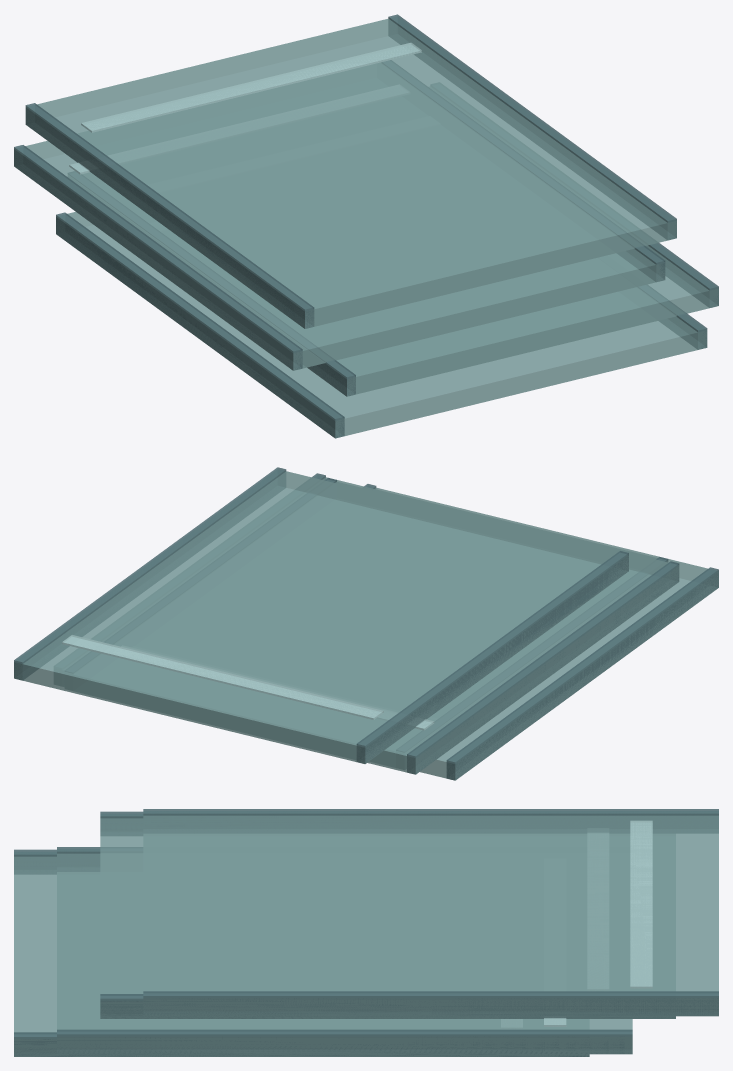
Rendered from CMU3DMaterialLeisureGlass50Cloud.glb.
3 views of the same model, one above another, from view 1: azimuth 30°, elevation 25°; view 2: azimuth 150°, elevation 25°; view 3: azimuth 270°, elevation 25° (orthographic). The views are drawn at different scales.
Visible parts, largest first — view 1: separate physical sheet 3, separate physical sheet 2, separate physical sheet 0, separate physical sheet 1, sheet edge 0, sheet edge 2, sheet edge 3, sheet edge 3 member 2, glass upper specular stripe 3, sheet edge 1, glass upper specular stripe 2, sheet edge 2 member 2 (+2 smaller); view 2: separate physical sheet 3, separate physical sheet 2, separate physical sheet 0, sheet edge 0, sheet edge 3, sheet edge 2, sheet edge 3 member 2, glass upper specular stripe 3, sheet edge 1, sheet edge 2 member 2, separate physical sheet 1, glass upper specular stripe 2; view 3: separate physical sheet 3, separate physical sheet 1, sheet edge 3 member 2, sheet edge 1 member 2, sheet edge 3, separate physical sheet 2, separate physical sheet 0, glass upper specular stripe 3, glass upper specular stripe 2, sheet edge 0 member 2, sheet edge 2 member 2, sheet edge 1 (+2 smaller).
Boxes of the visible parts, left/top/right/bottom form: separate physical sheet 3: left=25, top=16, right=676, bottom=328; separate physical sheet 2: left=14, top=141, right=665, bottom=370; separate physical sheet 0: left=56, top=211, right=707, bottom=438; separate physical sheet 1: left=307, top=243, right=718, bottom=396; sheet edge 0: left=56, top=212, right=344, bottom=437; sheet edge 2: left=14, top=145, right=302, bottom=370; sheet edge 3: left=25, top=103, right=314, bottom=328; sheet edge 3 member 2: left=388, top=14, right=676, bottom=239; glass upper specular stripe 3: left=81, top=42, right=421, bottom=132; sheet edge 1: left=68, top=171, right=355, bottom=396; glass upper specular stripe 2: left=69, top=84, right=410, bottom=174; sheet edge 2 member 2: left=382, top=60, right=665, bottom=281; separate physical sheet 3: left=14, top=469, right=628, bottom=763; separate physical sheet 2: left=327, top=480, right=679, bottom=774; separate physical sheet 0: left=366, top=486, right=718, bottom=780; sheet edge 0: left=446, top=567, right=718, bottom=780; sheet edge 3: left=356, top=551, right=628, bottom=763; sheet edge 2: left=407, top=561, right=679, bottom=774; sheet edge 3 member 2: left=14, top=467, right=286, bottom=680; glass upper specular stripe 3: left=62, top=635, right=383, bottom=719; sheet edge 1: left=396, top=557, right=668, bottom=752; sheet edge 2 member 2: left=65, top=477, right=336, bottom=673; separate physical sheet 1: left=314, top=475, right=668, bottom=562; glass upper specular stripe 2: left=121, top=645, right=434, bottom=730; separate physical sheet 3: left=143, top=811, right=718, bottom=1016; separate physical sheet 1: left=57, top=849, right=632, bottom=1054; sheet edge 3 member 2: left=143, top=991, right=718, bottom=1016; sheet edge 1 member 2: left=57, top=1029, right=632, bottom=1054; sheet edge 3: left=143, top=809, right=718, bottom=833; separate physical sheet 2: left=100, top=814, right=675, bottom=1018; separate physical sheet 0: left=14, top=852, right=589, bottom=1056; glass upper specular stripe 3: left=630, top=820, right=652, bottom=988; glass upper specular stripe 2: left=587, top=833, right=608, bottom=990; sheet edge 0 member 2: left=14, top=1032, right=589, bottom=1056; sheet edge 2 member 2: left=100, top=994, right=675, bottom=1018; sheet edge 1: left=57, top=847, right=142, bottom=871.
Bounding box in the file's own units: 0.435 × 0.077 × 0.637.
